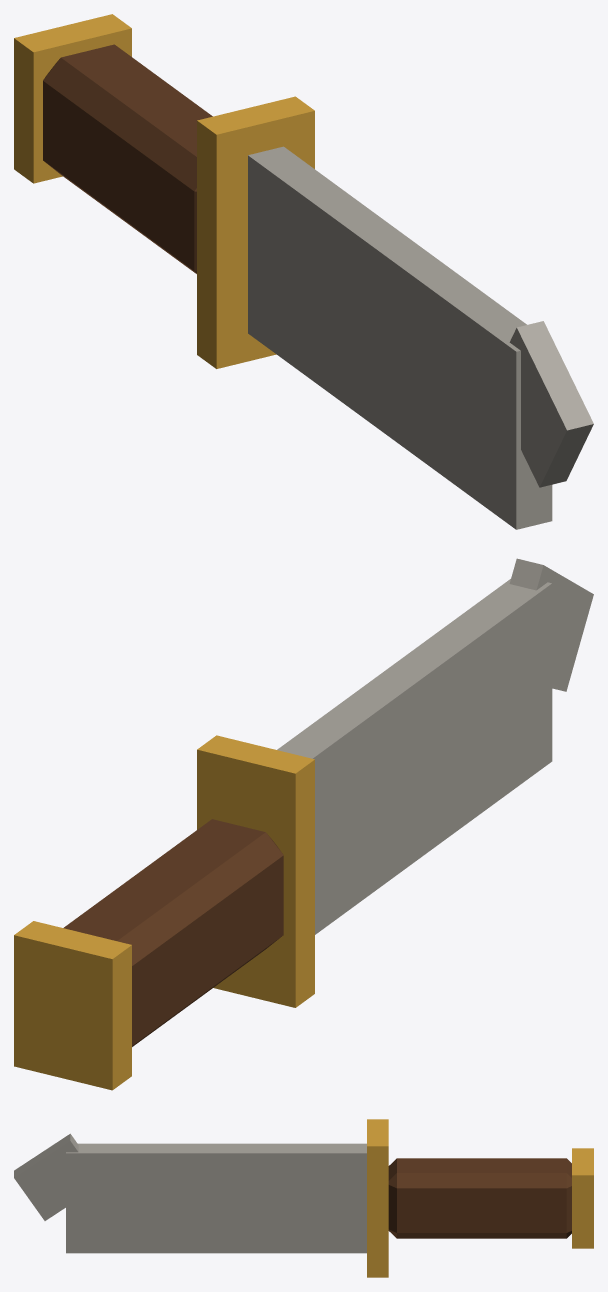
Rendered from QuickEscapeKnife.fbx.
3 renders of one model, top to bottom at view 1: azimuth 30°, elevation 25°; view 2: azimuth 150°, elevation 25°; view 3: azimuth 270°, elevation 25°, orthographic. The views are drawn at different scales.
Visible parts, largest first — view 1: QuickEscapeKnife; view 2: QuickEscapeKnife; view 3: QuickEscapeKnife.
Boxes of the visible parts, box(x1,y1,x2,y2) form: QuickEscapeKnife: box(14, 14, 593, 529); QuickEscapeKnife: box(14, 558, 593, 1090); QuickEscapeKnife: box(14, 1119, 593, 1277).
Bounding box in the file's own units: 0.22 × 0.5 × 2.
